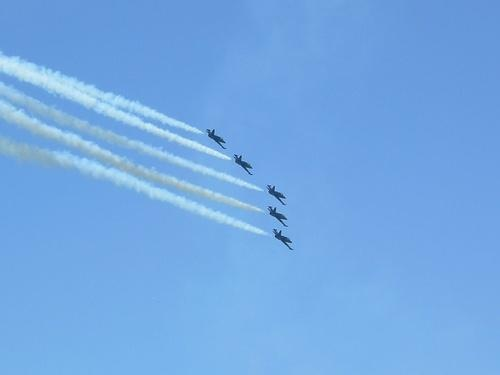aeroplane: (204, 129, 228, 151), (232, 154, 254, 177), (265, 206, 288, 228), (266, 185, 288, 207), (272, 229, 294, 249)
